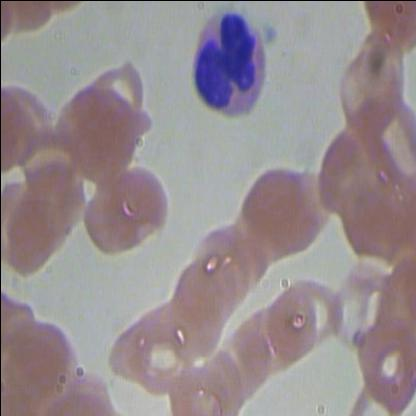Platelets: (262, 22, 278, 44)
WBC: (184, 1, 270, 123)
